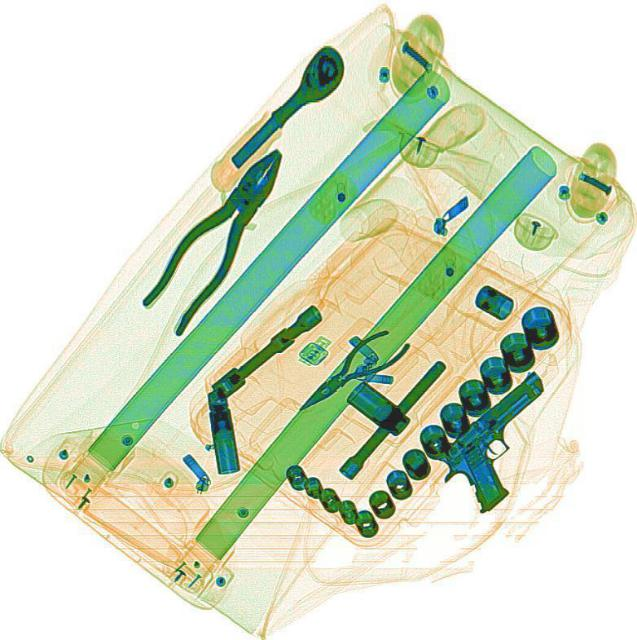Gun: (423, 369, 589, 516)
Pliers: (128, 134, 304, 338), (286, 318, 415, 422)
